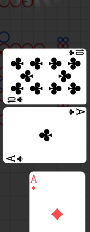10C: (67, 49, 84, 57)
AC: (67, 108, 85, 117)
AD: (29, 174, 38, 192)
